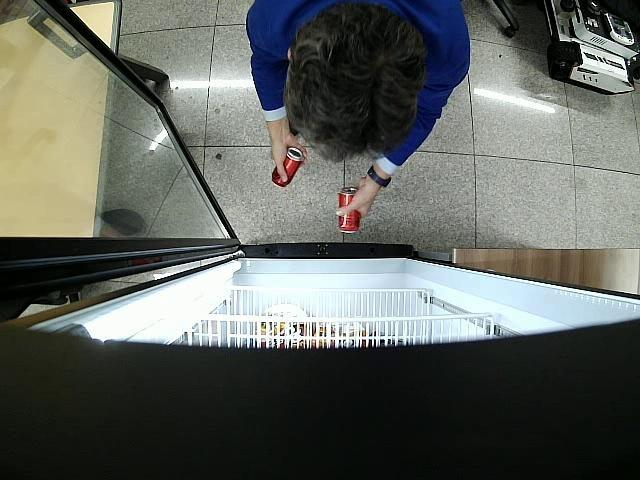11_cocaColaZero: (272, 148, 304, 188), (338, 187, 360, 233)
